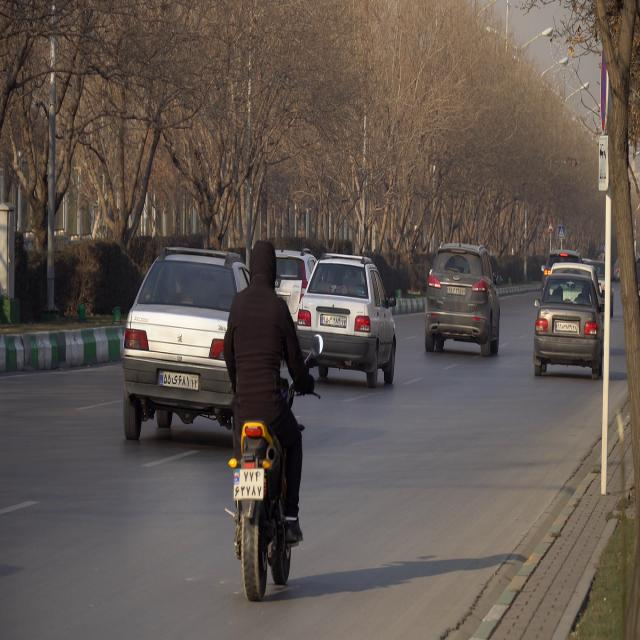bus: (226, 237, 320, 599)
truck: (124, 251, 248, 434), (296, 254, 395, 392), (422, 246, 502, 352), (531, 270, 605, 376)
